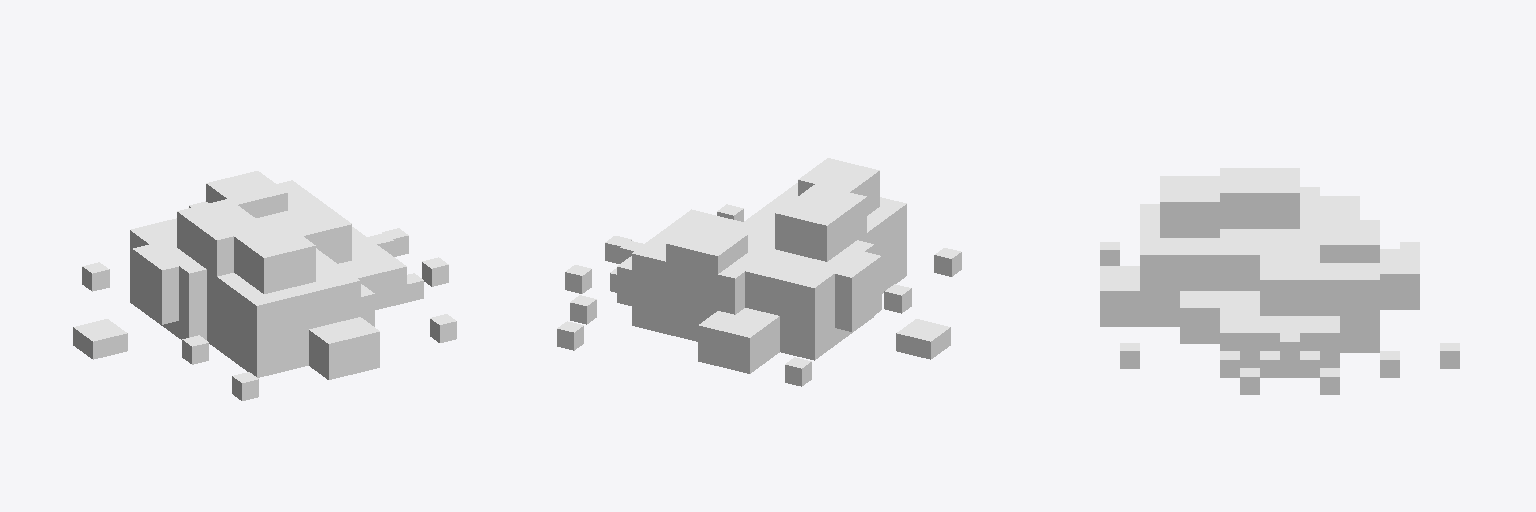
The model's file is VoxelNuke-25-TrashPile-5.obj.
3 views of the same model, side by side, from view 1: azimuth 30°, elevation 25°; view 2: azimuth 150°, elevation 25°; view 3: azimuth 270°, elevation 25° (orthographic).
Visible parts, largest first — view 1: TrashPile-5; view 2: TrashPile-5; view 3: TrashPile-5.
Boxes of the visible parts, box(x1,y1,x2,y2) form: TrashPile-5: box(73, 171, 456, 400); TrashPile-5: box(557, 158, 961, 386); TrashPile-5: box(1100, 168, 1459, 394).
Size of the model in its own units: 0.4 by 0.12 by 0.36.